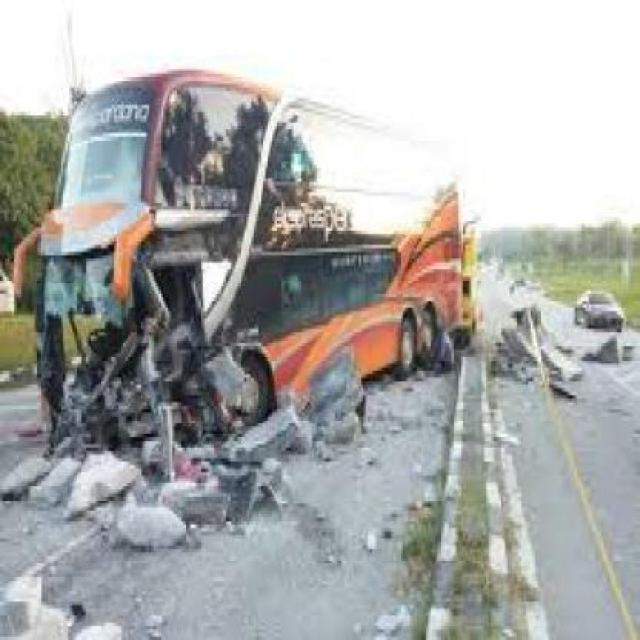accident: (43, 66, 466, 448)
